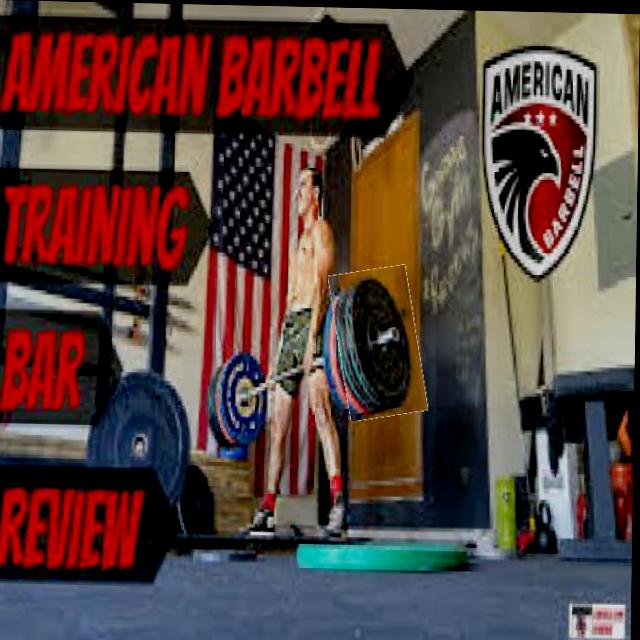barbell: (334, 265, 426, 419)
